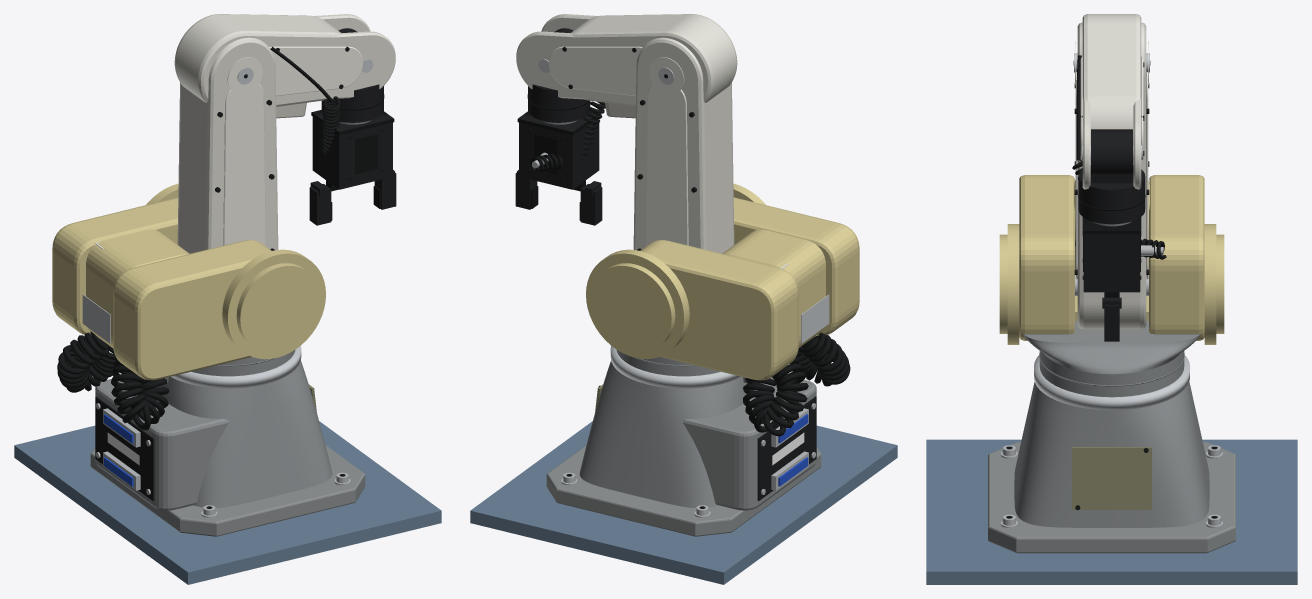
The model's file is rvm1.glb.
The picture shows the model from 3 angles, left to right: view 1: azimuth 30°, elevation 25°; view 2: azimuth 150°, elevation 25°; view 3: azimuth 270°, elevation 25°; orthographic projection. The views are drawn at different scales.
Visible parts, largest first — view 1: m12, m1, m0, m16, m17, m6, m15, m9, m3, m2, m14, m7; view 2: m12, m1, m0, m16, m17, m6, m15, m9, m3, m2, m14, m7; view 3: m1, m0, m12, m16, m6, m4, m9, m17, m3, m2, m15.
Boxes of the visible parts, x1,y1,x2,y2 form: m12: [52, 183, 325, 380]; m1: [90, 350, 365, 536]; m0: [14, 421, 441, 584]; m16: [174, 14, 395, 253]; m17: [223, 46, 363, 246]; m6: [95, 28, 396, 500]; m15: [57, 46, 340, 430]; m9: [171, 59, 373, 388]; m3: [206, 94, 394, 508]; m2: [96, 403, 350, 517]; m14: [82, 294, 110, 343]; m7: [103, 414, 133, 486]; m12: [586, 183, 859, 380]; m1: [546, 350, 821, 536]; m0: [470, 421, 897, 584]; m16: [516, 14, 737, 253]; m17: [548, 46, 688, 246]; m6: [515, 28, 816, 500]; m15: [530, 101, 850, 436]; m9: [538, 59, 740, 388]; m3: [517, 94, 705, 508]; m2: [532, 152, 815, 517]; m14: [801, 294, 829, 343]; m7: [778, 414, 808, 486]; m1: [988, 321, 1235, 553]; m0: [926, 439, 1297, 584]; m12: [999, 175, 1224, 344]; m16: [1077, 14, 1146, 329]; m6: [1078, 129, 1145, 341]; m4: [1072, 447, 1151, 509]; m9: [1034, 53, 1189, 410]; m17: [1075, 41, 1148, 279]; m3: [1006, 195, 1217, 518]; m2: [1000, 245, 1223, 527]; m15: [1072, 55, 1166, 259].
Bounding box in the file's own units: 0.3901 × 0.5637 × 0.38.
